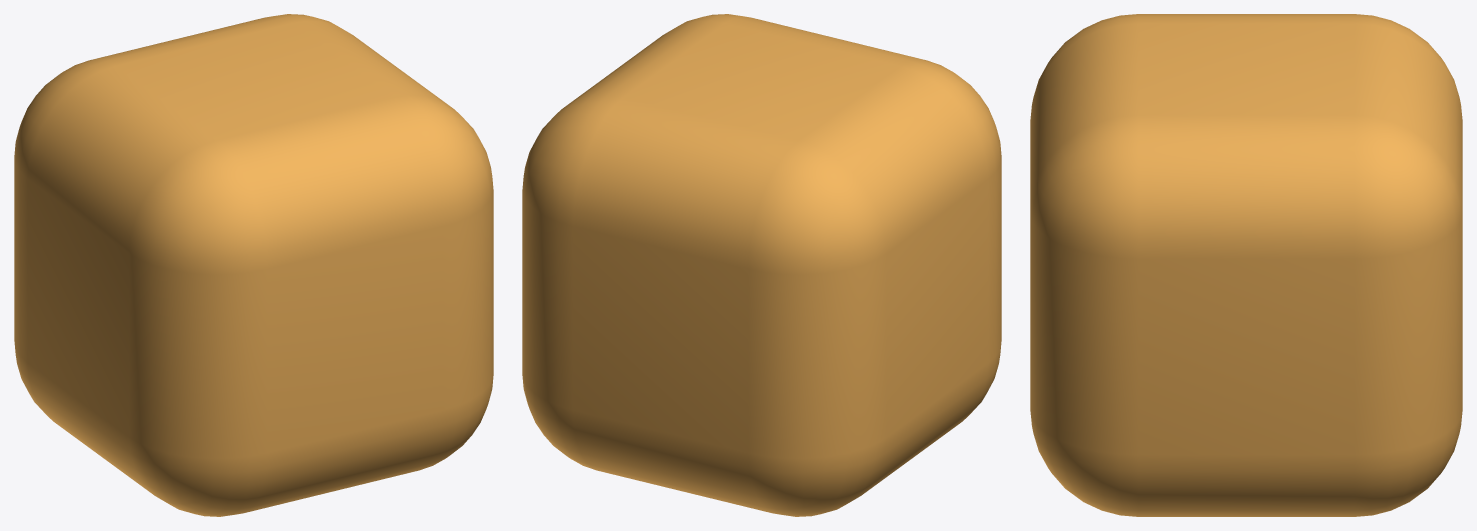
File: RoundCube_01.fbx
The picture shows the model from 3 angles, left to right: view 1: azimuth 30°, elevation 25°; view 2: azimuth 150°, elevation 25°; view 3: azimuth 270°, elevation 25°; orthographic projection. The views are drawn at different scales.
Visible parts, largest first — view 1: RoundCube_01; view 2: RoundCube_01; view 3: RoundCube_01.
Boxes of the visible parts, box(x1,y1,x2,y2) form: RoundCube_01: box(14, 14, 493, 516); RoundCube_01: box(522, 14, 1001, 516); RoundCube_01: box(1030, 14, 1462, 516).
Size of the model in its own units: 286 by 286 by 286.
